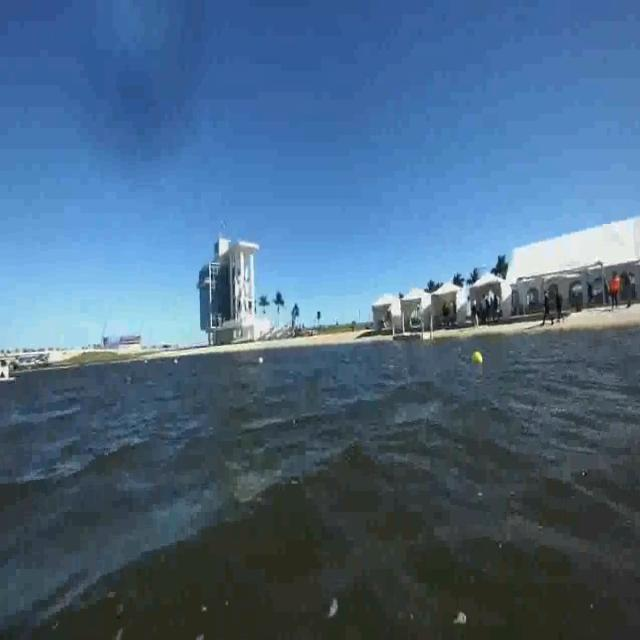yellow-buoy: (471, 349, 483, 366)
